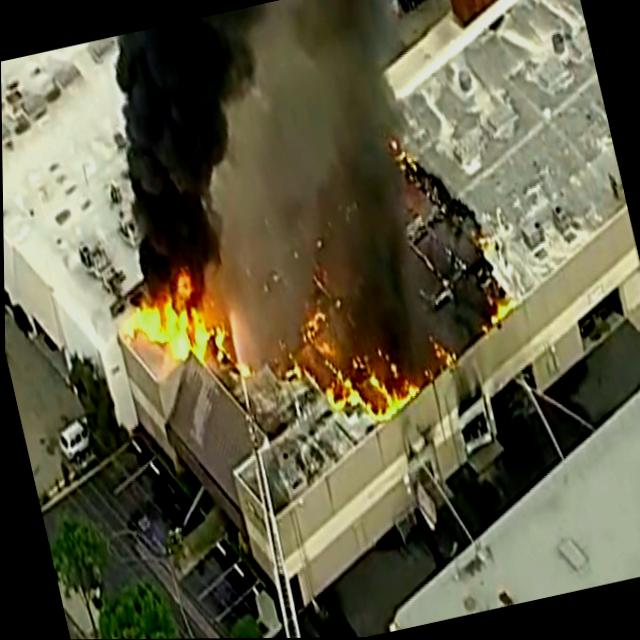fire: (136, 292, 231, 400)
smoke: (88, 0, 354, 256)
